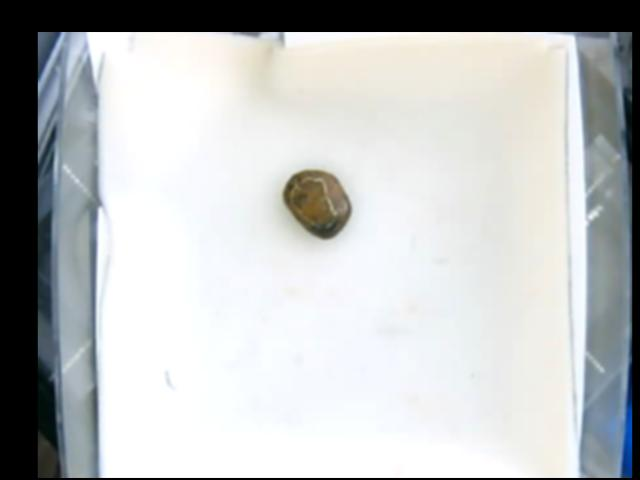Pebble: (282, 169, 353, 237)
